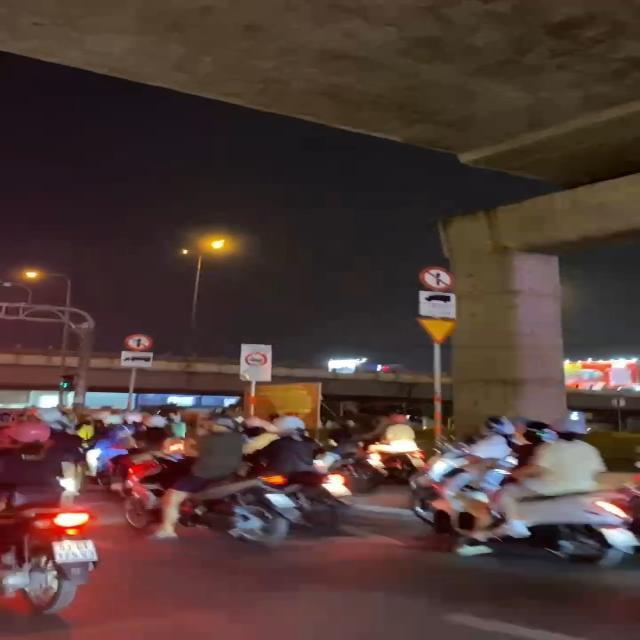136-cam-di-thang: (418, 266, 454, 290), (123, 332, 153, 352)
208-giao-nhau-voi-duong-uu-tien: (414, 316, 458, 344)
